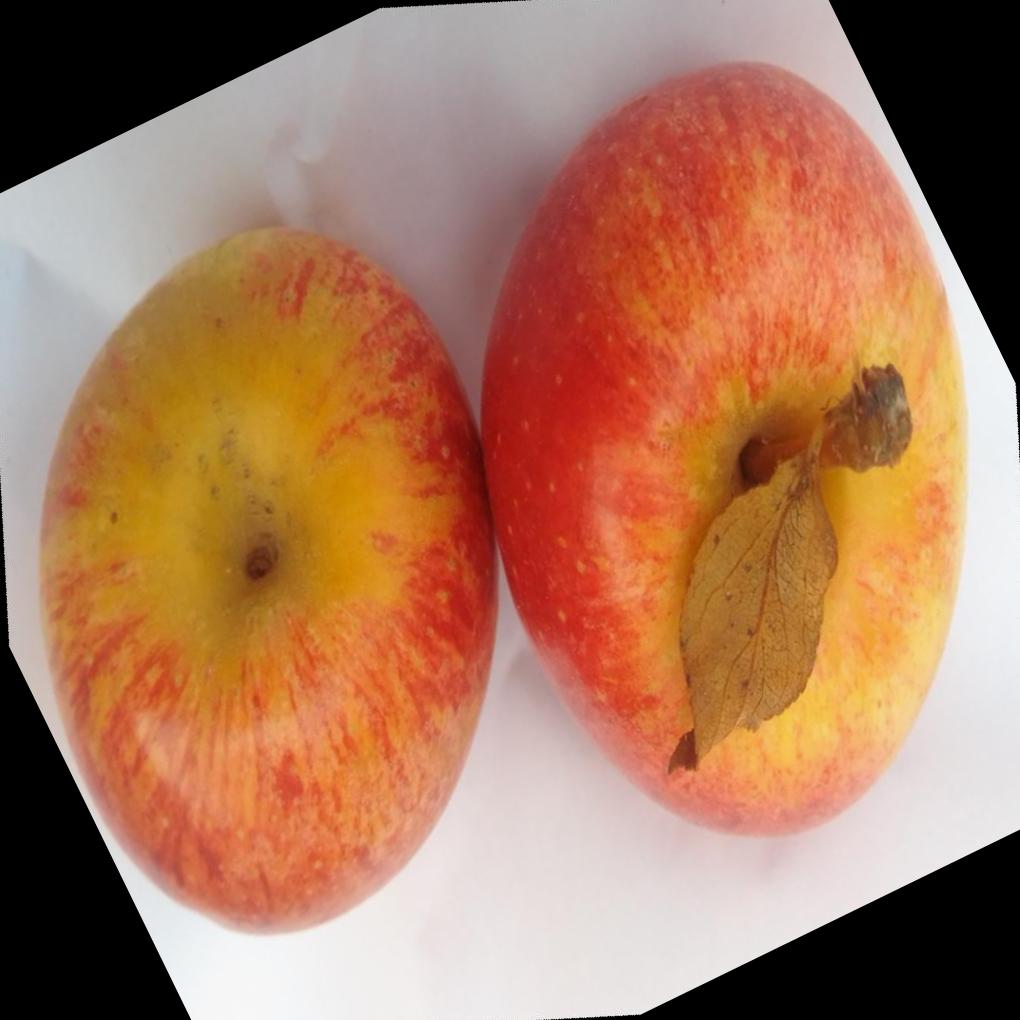FreshGuava: (40, 54, 975, 936)
